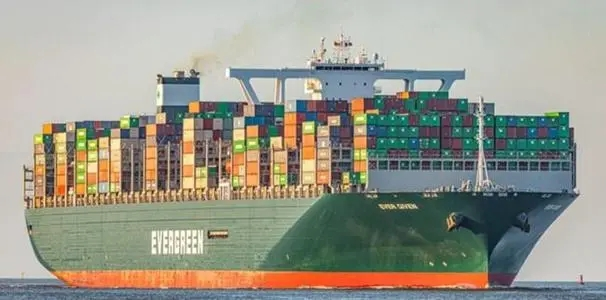Cargoship: (18, 29, 581, 291)
